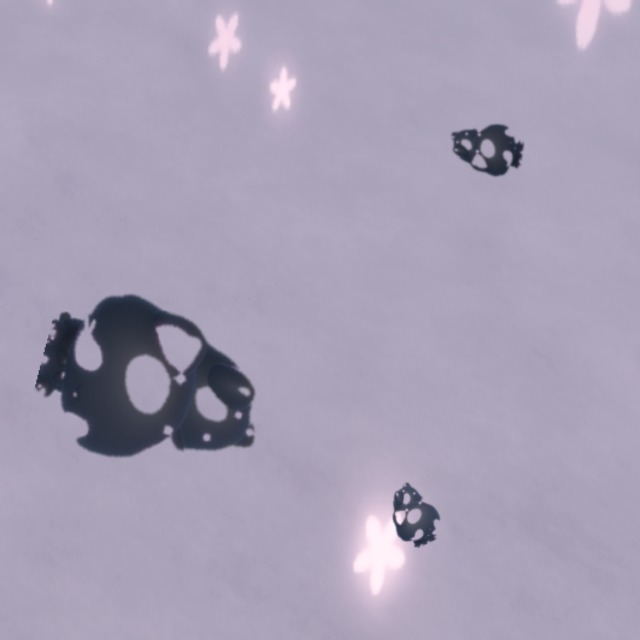urso_preto: (17, 269, 300, 512), (374, 470, 453, 555), (441, 112, 527, 182)
